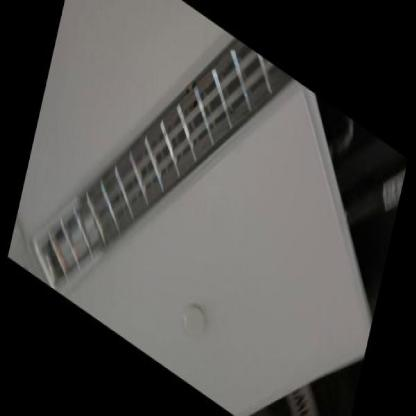light_off: (21, 0, 312, 415)
